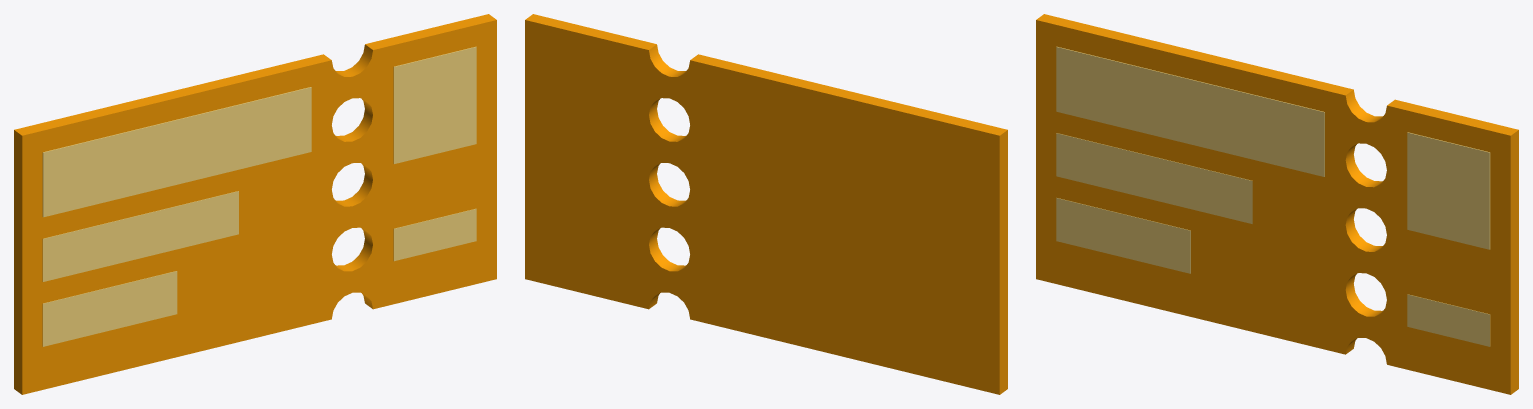
The model's file is ticket.gltf.
The picture shows the model from 3 angles, left to right: view 1: azimuth 30°, elevation 25°; view 2: azimuth 150°, elevation 25°; view 3: azimuth 330°, elevation 25°; orthographic projection.
Visible parts, largest first — view 1: Circle.277; view 2: Circle.277; view 3: Circle.277.
Part boxes in pixels (x1=…): Circle.277: x1=14, y1=14, x2=496, y2=394; Circle.277: x1=525, y1=14, x2=1007, y2=394; Circle.277: x1=1036, y1=14, x2=1518, y2=394.
Size of the model in its own units: 2.39 by 1.25 by 0.0744.
Materials: 1 (1 with a texture image).
